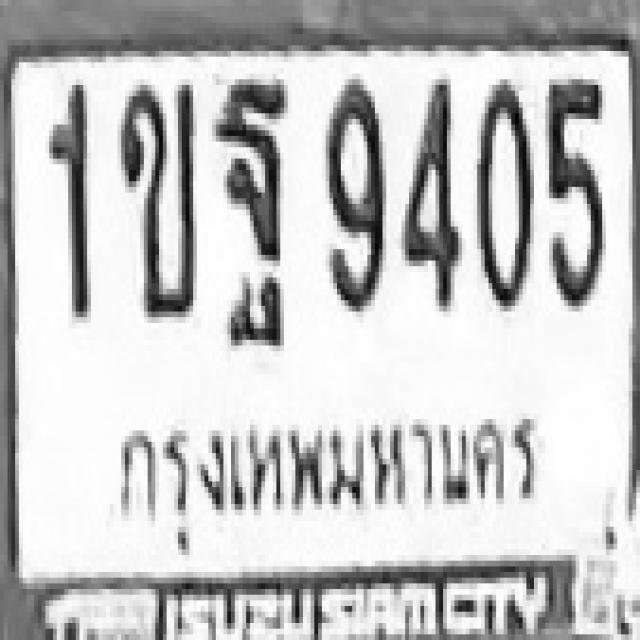0: (474, 79, 530, 306)
1: (46, 79, 87, 317)
11KhorKhai: (118, 80, 193, 312)
25ThorThan: (212, 77, 301, 366)
4: (402, 74, 458, 306)
5: (545, 74, 602, 306)
9: (322, 76, 382, 308)
Bangkok: (101, 404, 554, 552)
